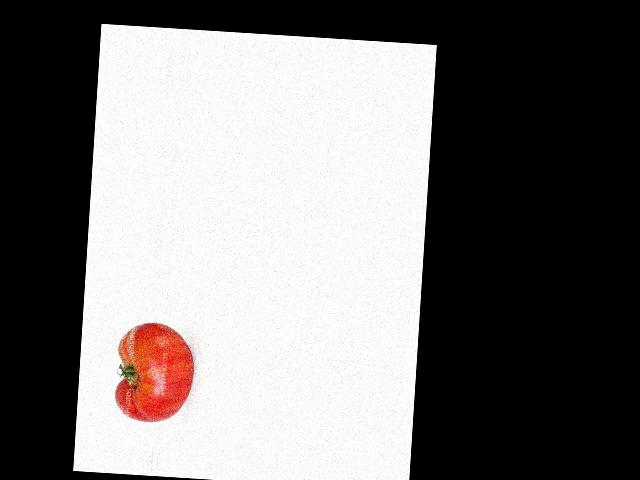tomato: (113, 320, 196, 424)
